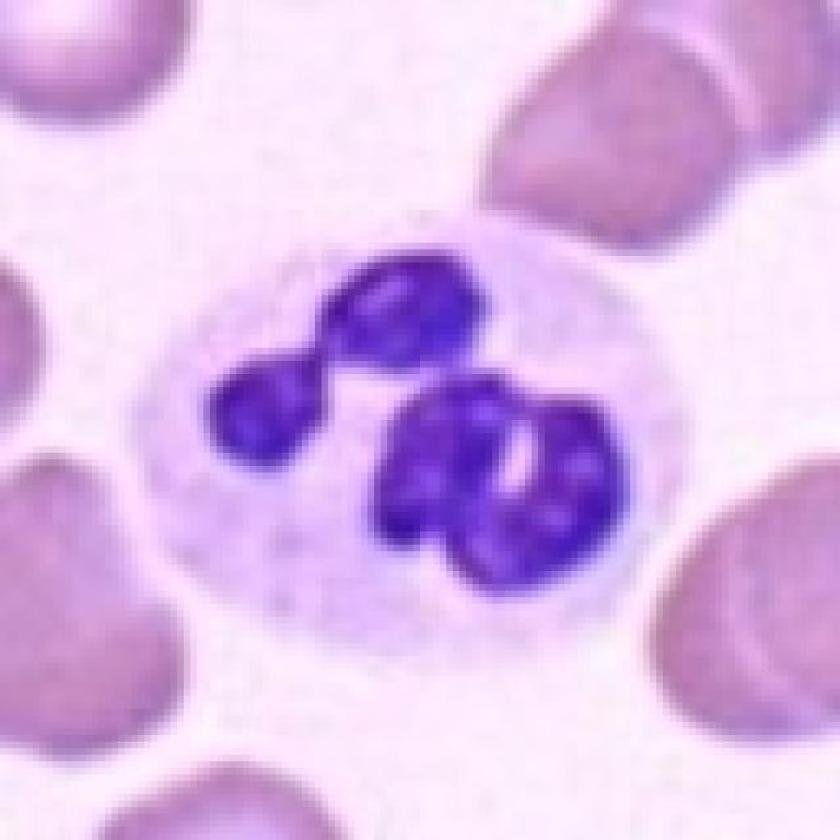neutrophil: (63, 181, 649, 704)
